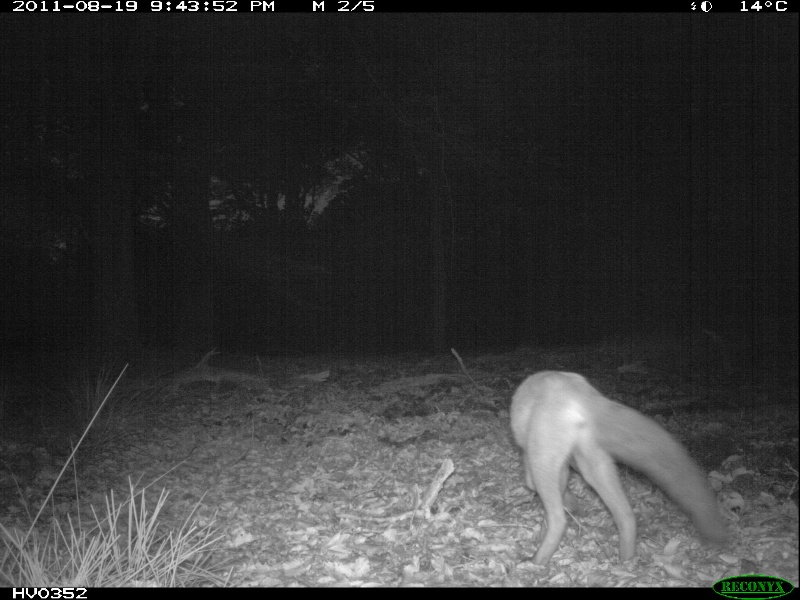fox: (503, 369, 733, 573)
